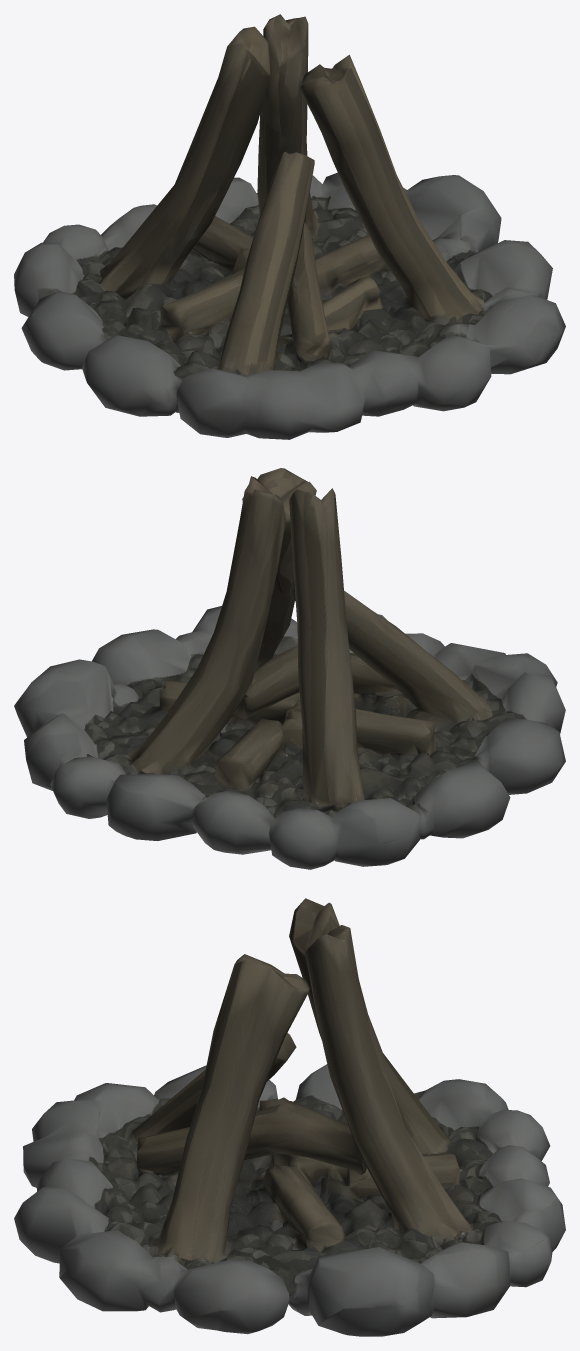
Rendered from Meshy_AI_Low_Poly_Teepee_Campf_0515142323_texture.fbx.
3 renders of one model, top to bottom at view 1: azimuth 30°, elevation 25°; view 2: azimuth 150°, elevation 25°; view 3: azimuth 270°, elevation 25°, orthographic. The views are drawn at different scales.
Visible parts, largest first — view 1: Mesh_0; view 2: Mesh_0; view 3: Mesh_0.
Boxes of the visible parts, bbox=[...] form: Mesh_0: bbox=[14, 14, 565, 439]; Mesh_0: bbox=[14, 468, 565, 869]; Mesh_0: bbox=[14, 898, 565, 1336].
Size of the model in its own units: 191 by 116 by 185.
1 material, 1 textured.
